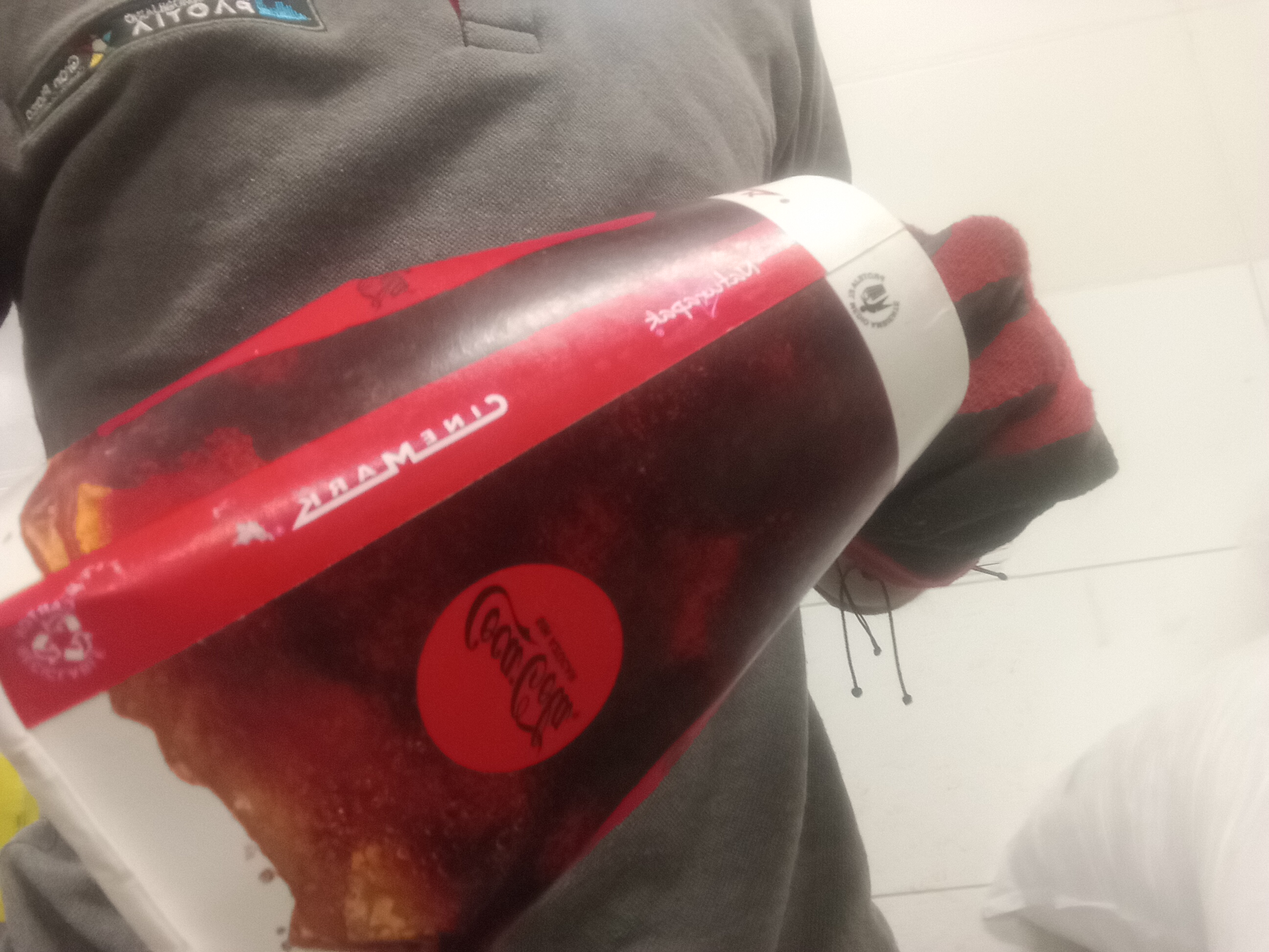Carton: (1, 177, 969, 952)
